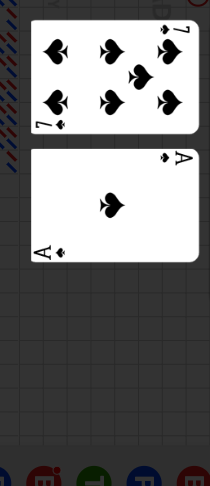7S: (157, 23, 192, 37)
AS: (33, 243, 69, 260)
